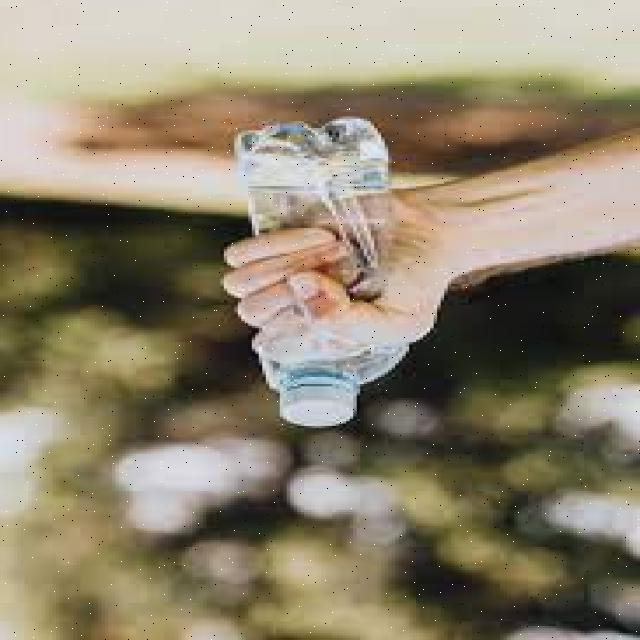bottle: (206, 108, 434, 443)
cap: (272, 372, 364, 434)
